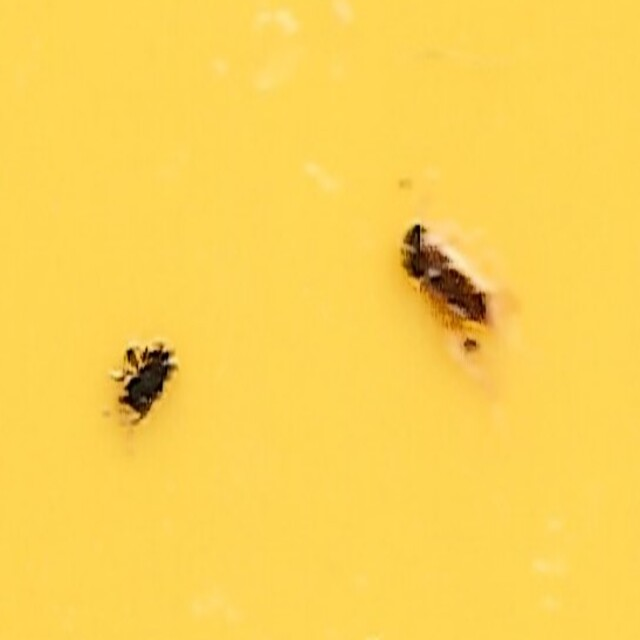Brachycera: (117, 327, 180, 432)
Hemiptera: (399, 208, 523, 388)
